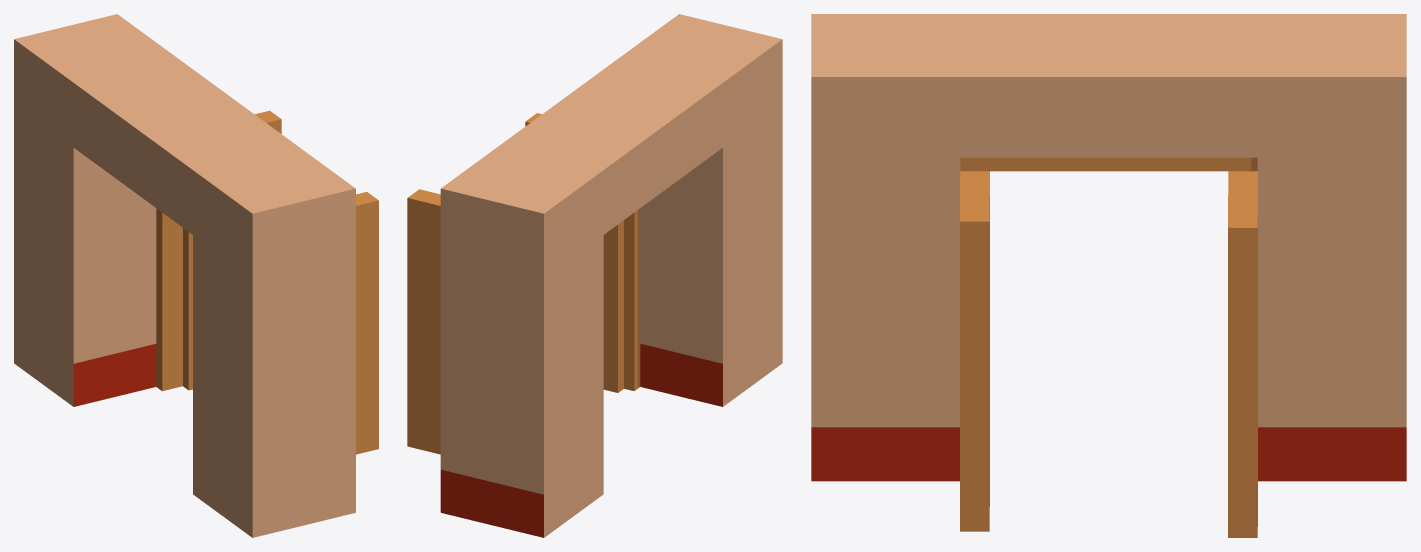
File: paredeportateste.fbx
The picture shows the model from 3 angles, left to right: view 1: azimuth 30°, elevation 25°; view 2: azimuth 150°, elevation 25°; view 3: azimuth 270°, elevation 25°; orthographic projection. The views are drawn at different scales.
Parts seen in each view (by area): view 1: parede porta fachada; view 2: parede porta fachada; view 3: parede porta fachada.
Boxes of the visible parts, left/top/right/bottom form: parede porta fachada: left=14, top=14, right=378, bottom=537; parede porta fachada: left=407, top=14, right=782, bottom=537; parede porta fachada: left=811, top=14, right=1406, bottom=537.
Bounding box in the file's own units: 1.9 × 4 × 3.
3 materials, 2 textured.
